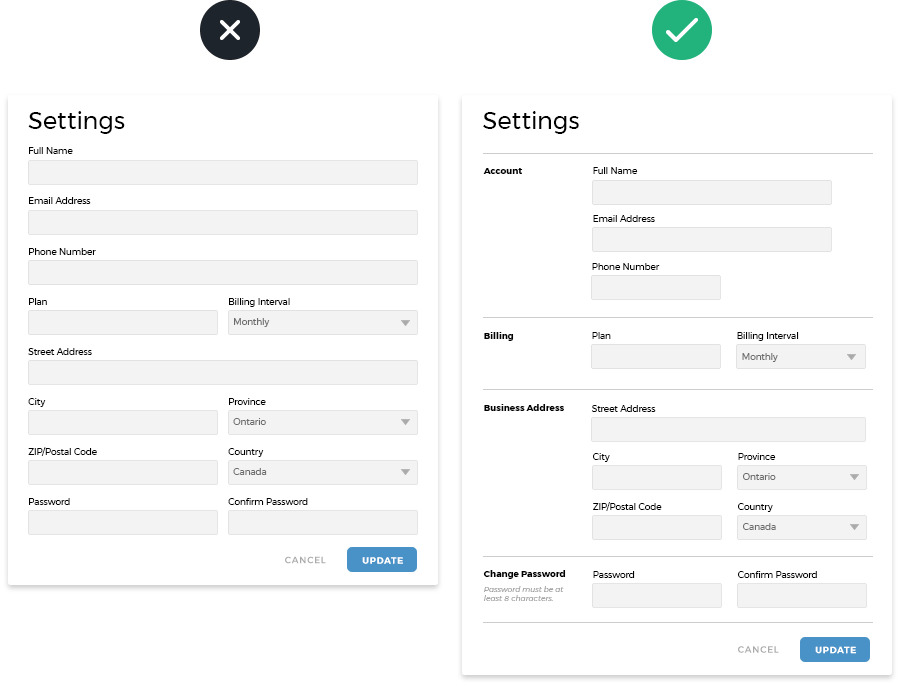_form_: (10, 78, 426, 494), (14, 193, 430, 609), (470, 141, 886, 557), (469, 258, 885, 674)
button: (346, 546, 417, 573), (800, 636, 870, 662)
field: (24, 357, 419, 386), (21, 258, 420, 286), (24, 208, 418, 236), (23, 159, 419, 186), (588, 417, 867, 443), (588, 224, 834, 253), (588, 177, 833, 206), (226, 507, 417, 537), (22, 307, 218, 336), (24, 507, 219, 536), (23, 407, 218, 435), (25, 458, 219, 485), (587, 582, 723, 610), (588, 273, 722, 300), (588, 464, 722, 491), (734, 582, 867, 609), (585, 343, 723, 369), (591, 514, 723, 541)
field_with_label: (20, 145, 421, 188), (22, 195, 420, 238), (18, 246, 422, 288), (21, 347, 421, 388), (585, 404, 869, 445), (587, 163, 836, 207), (587, 213, 836, 255), (22, 445, 222, 487), (224, 446, 420, 488), (20, 297, 220, 338), (226, 296, 421, 338), (227, 396, 422, 438), (20, 396, 219, 436), (21, 497, 220, 537), (225, 497, 419, 538), (588, 500, 726, 543), (585, 570, 724, 612), (732, 330, 870, 372), (585, 452, 724, 493), (582, 330, 724, 370), (734, 501, 869, 542), (586, 263, 724, 302), (731, 571, 869, 610), (735, 452, 869, 492)
select: (227, 308, 419, 336), (228, 410, 420, 436), (226, 460, 418, 486), (734, 342, 867, 369), (736, 514, 867, 540), (737, 464, 867, 490)
